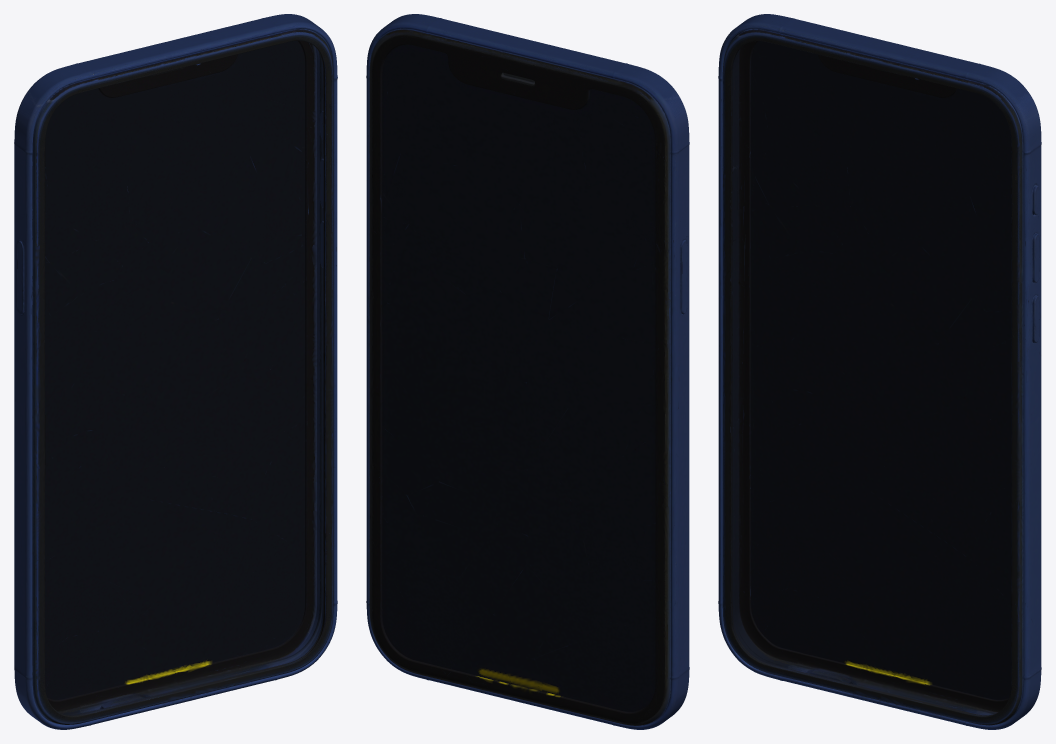
3 renders of one model, left to right at view 1: azimuth 30°, elevation 25°; view 2: azimuth 150°, elevation 25°; view 3: azimuth 330°, elevation 25°, orthographic.
Bounding box in the file's own units: 0.9591 × 1.9 × 0.1017.
Materials: 1 (1 with a texture image).
